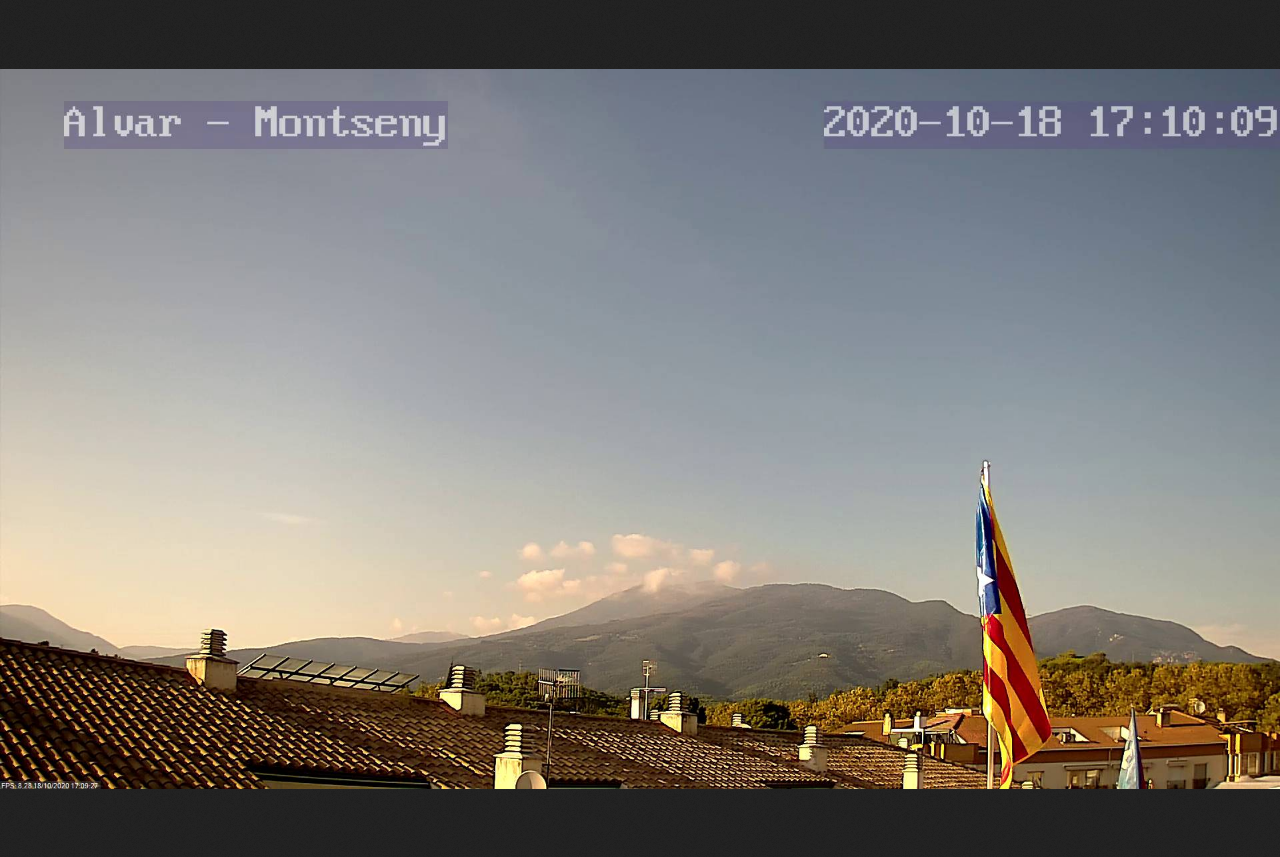no: (965, 473, 1052, 790)
